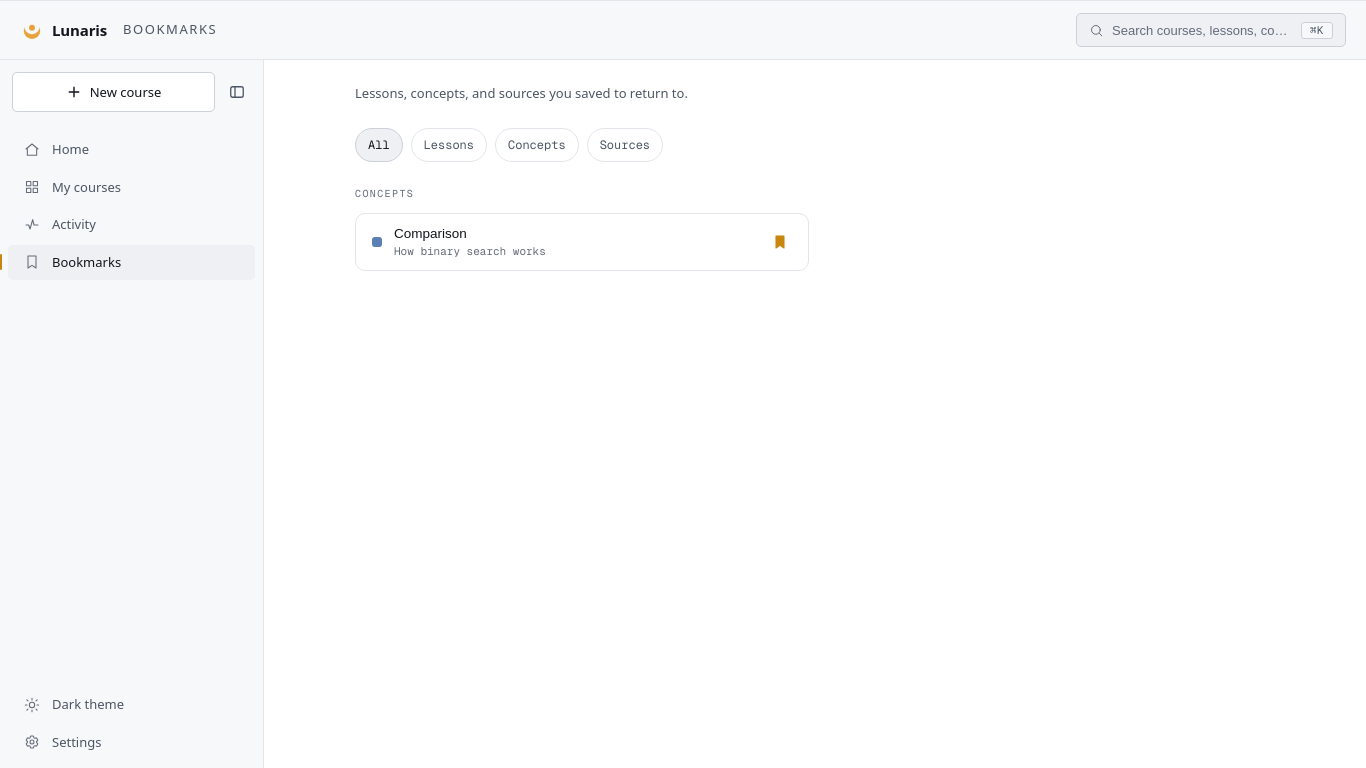
Test: App — URL routing (live studio) › a saved concept deep-links onto the course map with its inspector open
Click the button with aria-label "open comparison on the map": (430, 233) [372, 226, 760, 258]
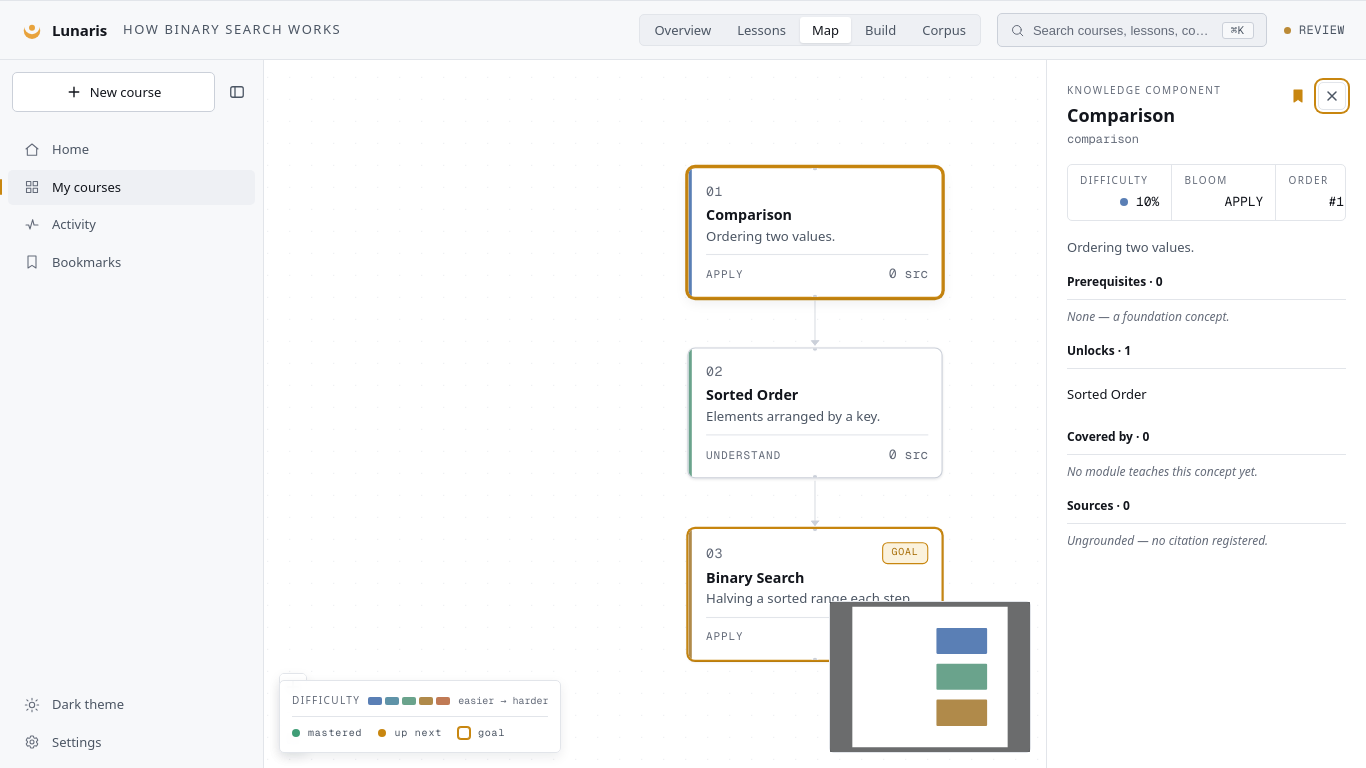
Result: the heading "Comparison" is shown at [1067, 102, 1175, 126]
Click the link "Home": (56, 149) [24, 140, 89, 158]
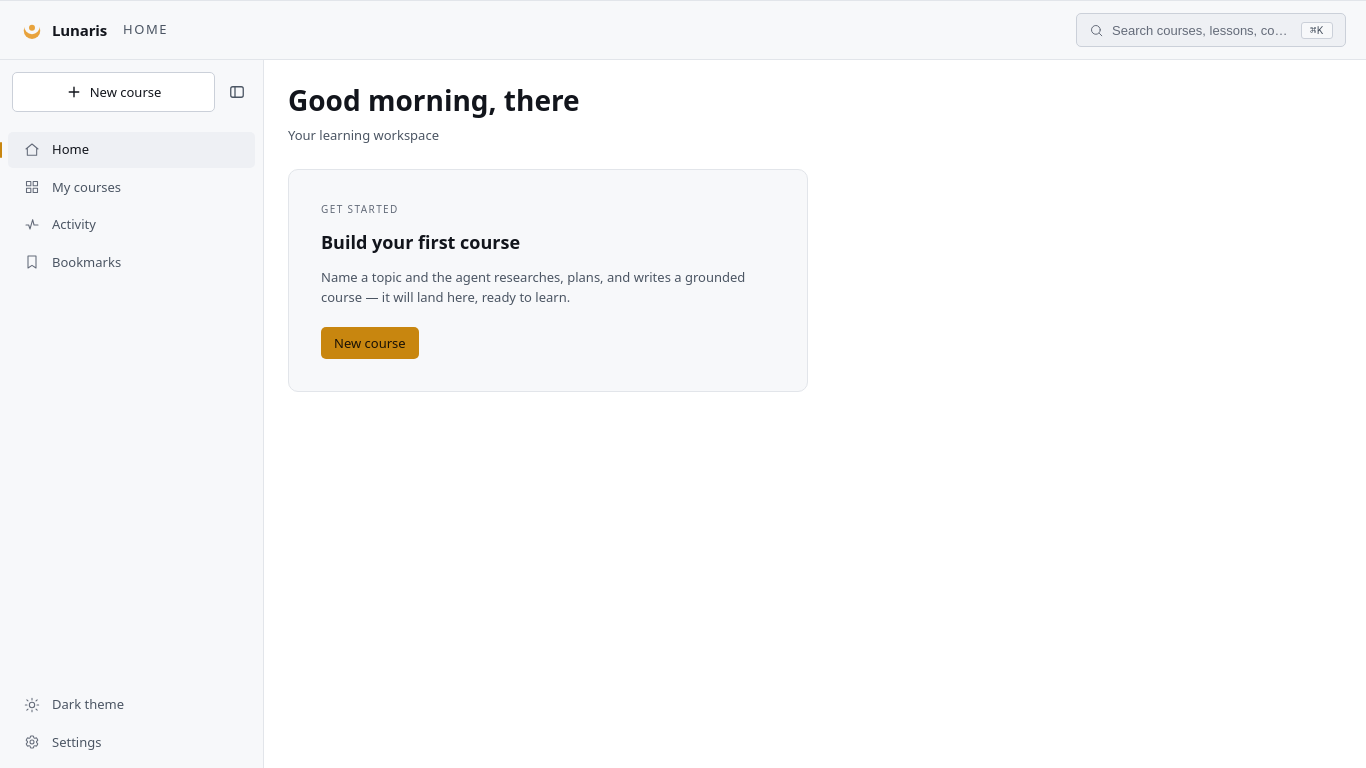
Result: the heading "Good morning, there" is shown at [288, 81, 580, 119]
